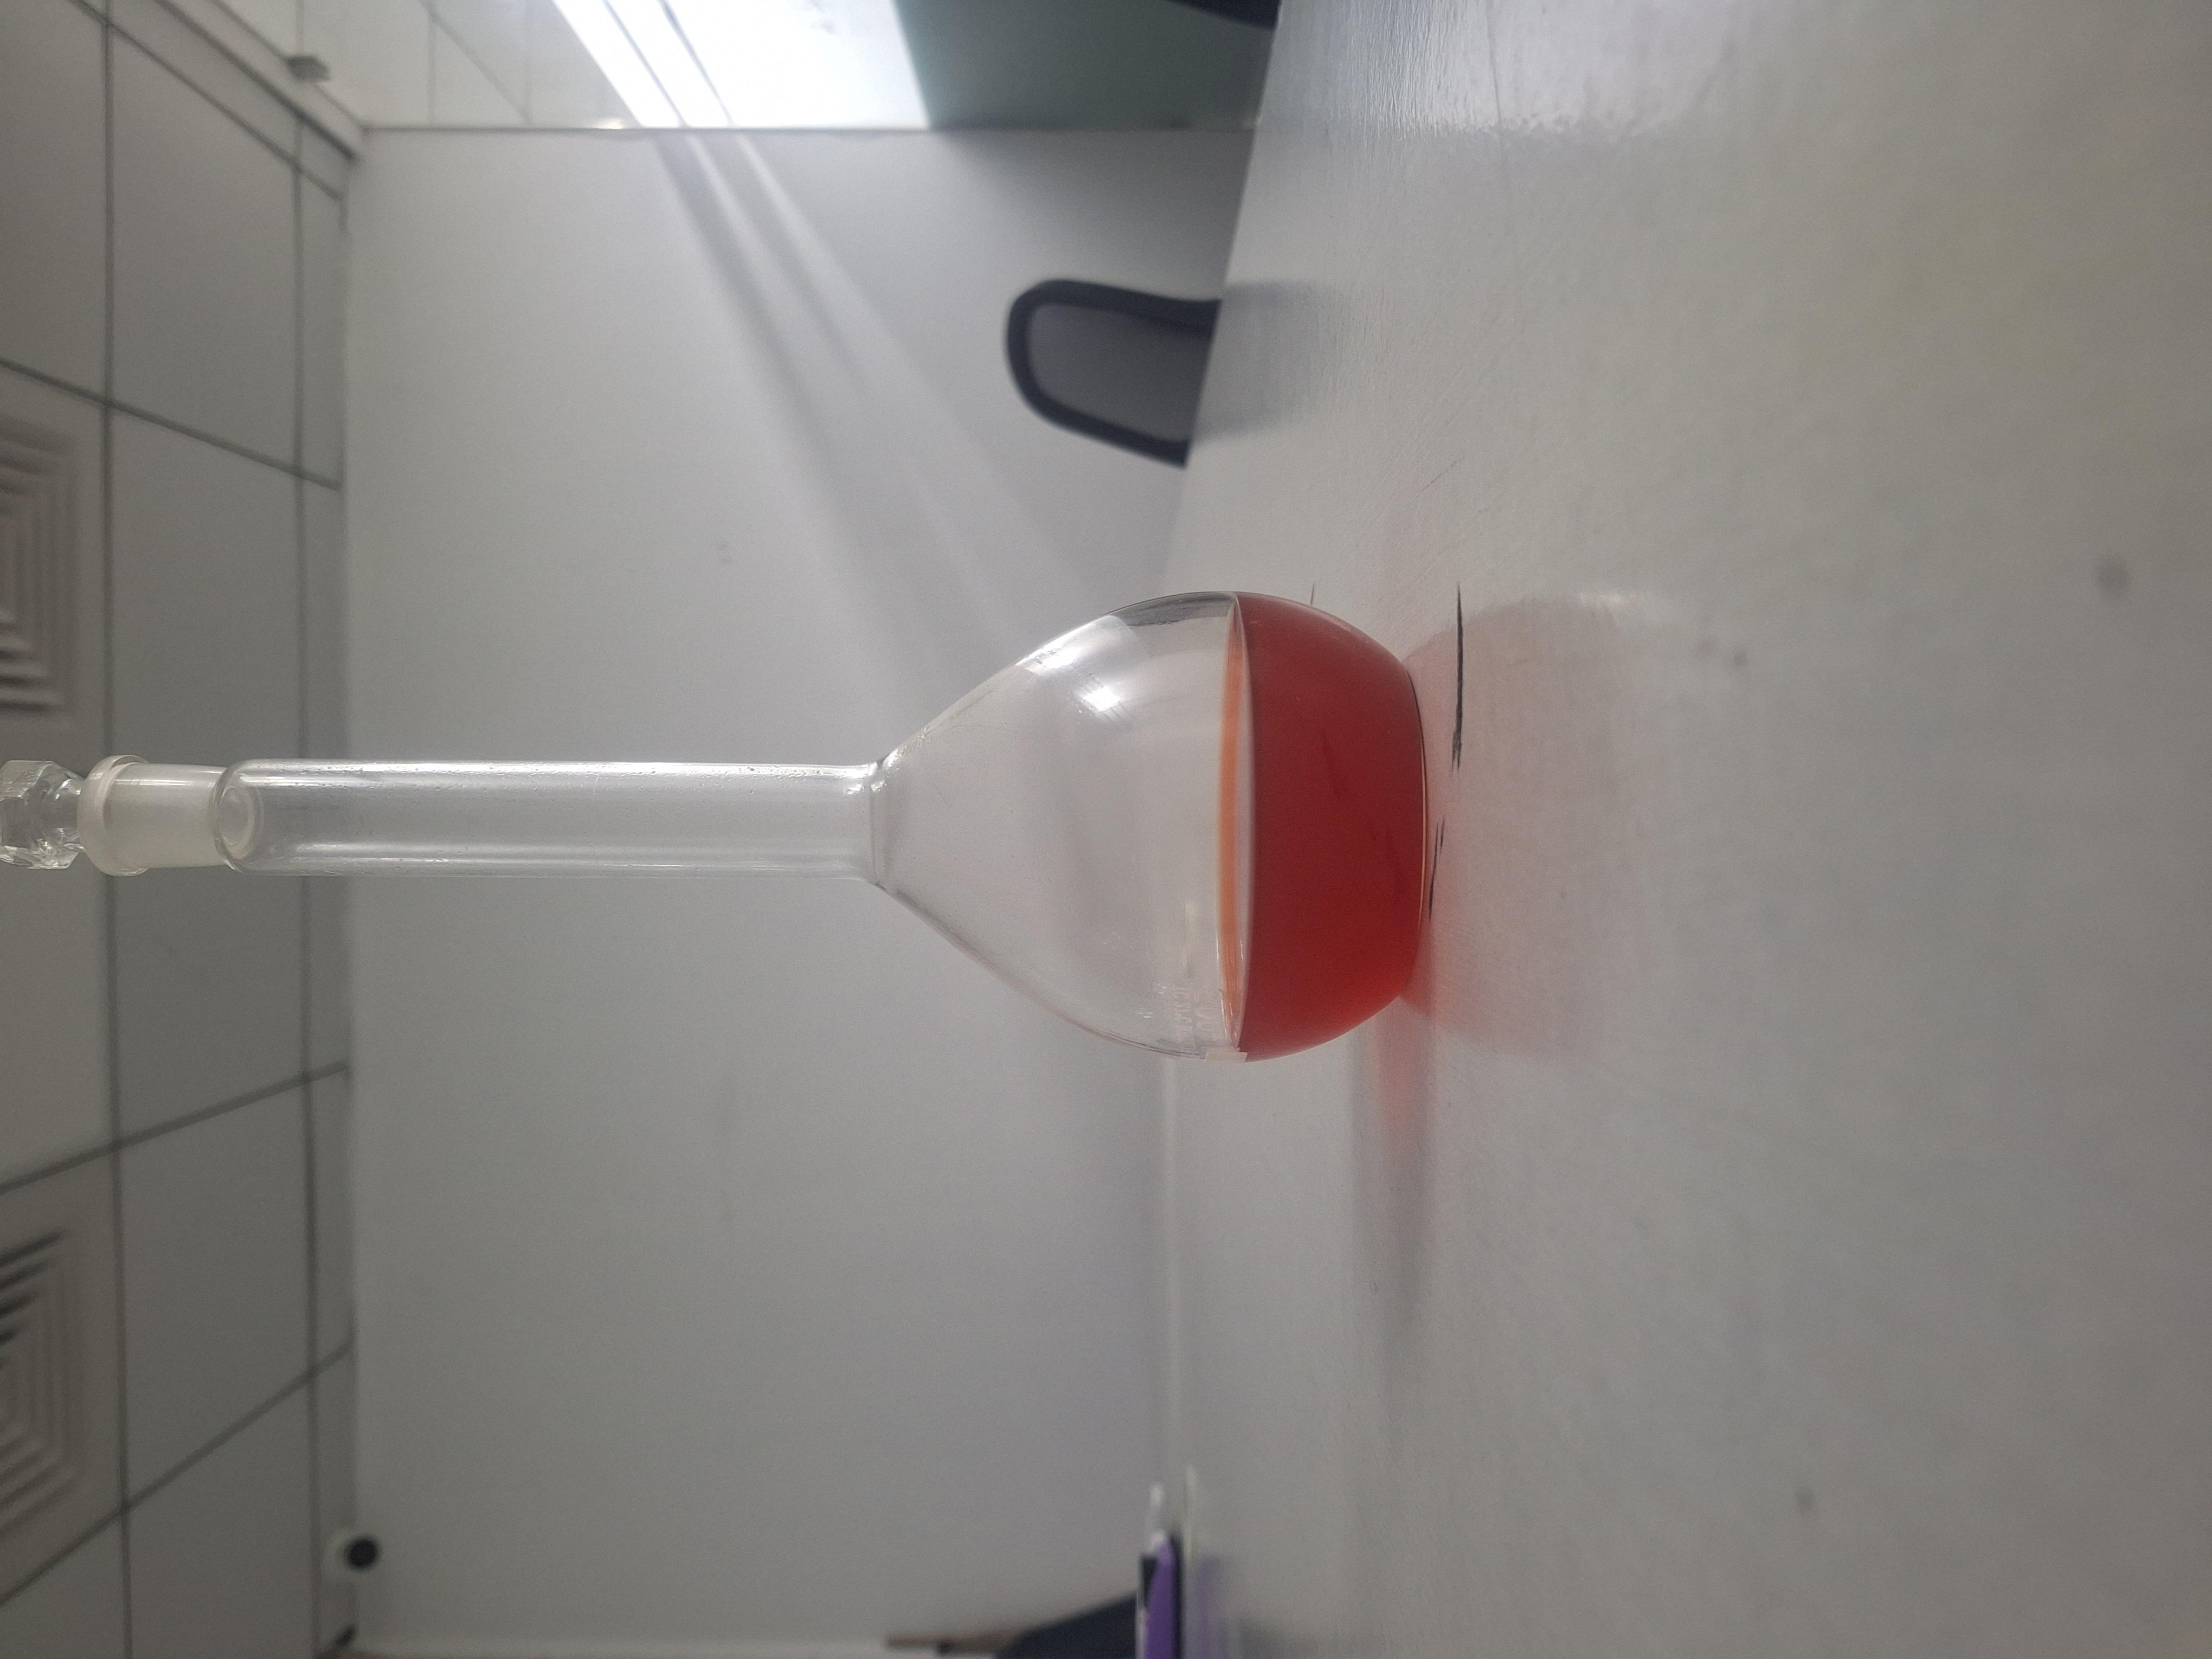Volumetric flask: (752, 31, 1475, 1077)
